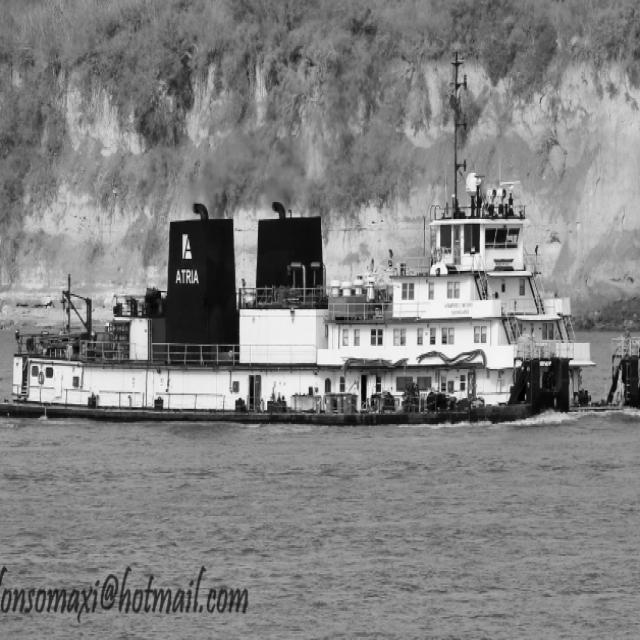tugboat: (1, 46, 640, 441)
